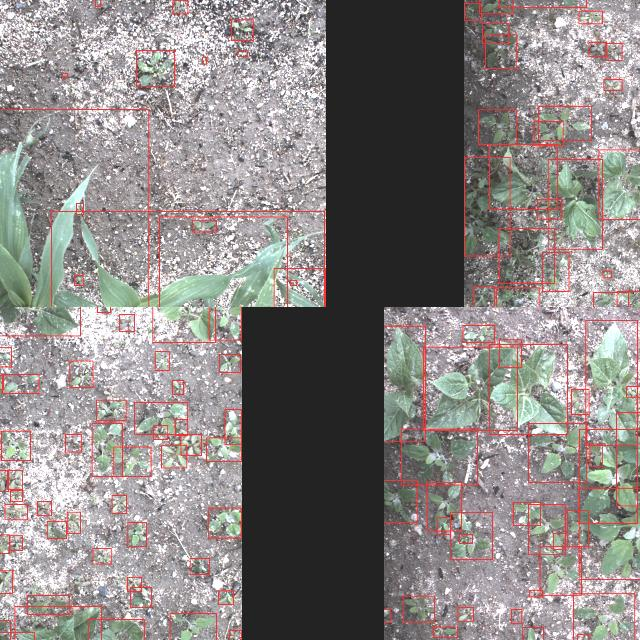crop: (0, 109, 149, 307), (51, 211, 325, 307), (159, 217, 288, 307), (423, 347, 517, 431), (489, 344, 567, 434), (586, 320, 638, 446), (548, 159, 602, 249), (384, 326, 425, 442), (488, 144, 558, 210), (14, 606, 101, 640), (598, 150, 640, 220), (0, 307, 79, 335), (152, 307, 215, 342), (274, 268, 326, 307), (88, 619, 144, 640)
weed: (578, 488, 640, 579), (579, 429, 637, 523), (464, 157, 510, 256), (400, 429, 478, 485), (529, 423, 587, 482), (498, 228, 554, 284), (573, 594, 635, 640), (616, 412, 640, 505), (540, 546, 582, 596), (450, 512, 492, 560), (528, 504, 566, 554), (538, 106, 590, 140), (134, 402, 188, 434), (426, 482, 462, 530), (92, 424, 122, 476), (384, 479, 417, 522), (136, 50, 174, 86), (478, 110, 516, 144), (169, 613, 216, 640), (208, 307, 241, 340), (485, 34, 517, 68), (114, 447, 150, 477), (542, 252, 568, 292), (208, 508, 242, 538), (206, 438, 242, 462), (493, 288, 538, 307), (2, 431, 30, 461), (402, 596, 433, 622), (26, 596, 70, 614), (1, 374, 38, 394), (568, 510, 588, 546), (534, 122, 562, 146), (512, 502, 540, 526), (70, 360, 92, 388), (499, 339, 521, 367), (224, 410, 242, 444), (96, 400, 126, 420), (162, 444, 186, 468), (593, 292, 628, 307), (482, 23, 508, 43), (462, 326, 494, 342), (180, 434, 202, 456), (472, 286, 495, 307), (537, 199, 561, 219), (479, 0, 513, 13), (231, 20, 253, 40), (130, 587, 152, 607), (128, 523, 146, 547), (571, 390, 589, 414), (617, 291, 640, 307), (5, 504, 28, 520), (220, 354, 240, 372), (578, 10, 602, 24), (47, 522, 67, 538), (190, 558, 210, 574), (66, 512, 80, 534), (192, 220, 216, 232), (65, 434, 81, 452), (93, 548, 111, 564), (433, 626, 457, 638), (8, 470, 22, 490), (0, 570, 12, 593), (522, 627, 543, 640), (464, 4, 481, 20), (155, 352, 169, 371), (590, 444, 602, 466), (606, 44, 622, 60), (126, 576, 142, 592), (588, 42, 606, 56), (120, 314, 134, 332), (112, 495, 126, 513), (172, 0, 188, 14), (218, 590, 234, 604), (0, 347, 11, 366), (37, 502, 51, 516), (154, 425, 168, 439), (458, 607, 472, 621), (176, 419, 188, 435), (438, 518, 450, 534), (553, 533, 565, 549), (0, 621, 10, 640), (604, 80, 622, 90), (0, 534, 9, 553), (172, 381, 184, 395), (0, 470, 8, 491), (10, 536, 22, 550), (458, 534, 472, 544), (511, 609, 521, 623), (10, 491, 22, 502), (627, 387, 640, 397), (230, 630, 242, 640), (76, 203, 84, 215), (529, 590, 543, 596), (74, 275, 82, 285), (602, 270, 612, 278), (384, 609, 390, 622), (236, 50, 248, 56), (97, 307, 111, 312), (0, 376, 3, 390), (290, 280, 296, 286), (95, 0, 100, 7), (202, 56, 206, 64), (62, 73, 68, 77)
